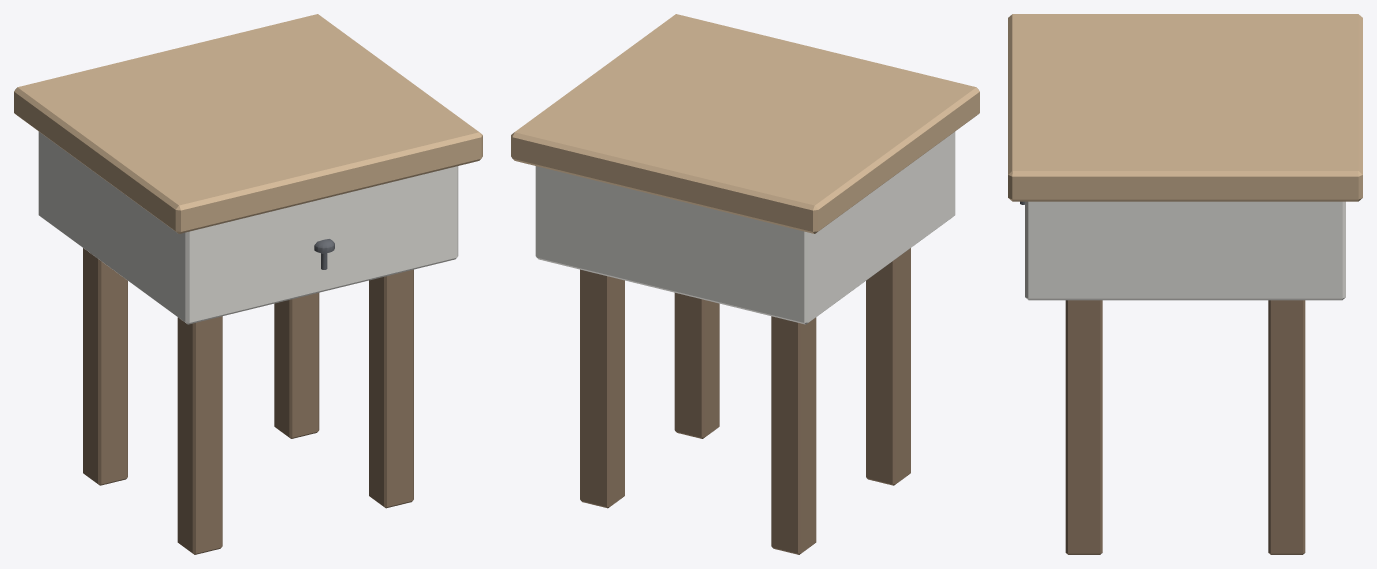
File: model-lounge-furniture-nightstand-813b7a56329f.glb
3 renders of one model, left to right at view 1: azimuth 30°, elevation 25°; view 2: azimuth 150°, elevation 25°; view 3: azimuth 270°, elevation 25°, orthographic. The views are drawn at different scales.
Parts seen in each view (by area): view 1: side-table-square-drawer; view 2: side-table-square-drawer; view 3: side-table-square-drawer.
Part boxes in pixels (x1,y1,x2,y2): side-table-square-drawer: [14, 14, 482, 554]; side-table-square-drawer: [511, 14, 979, 554]; side-table-square-drawer: [1008, 14, 1362, 554].
Bounding box in the file's own units: 0.45 × 0.53 × 0.42.
